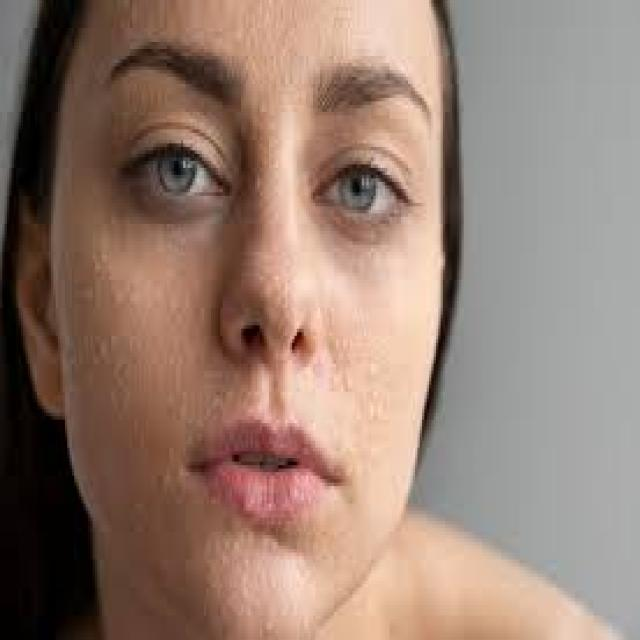flakiness: (68, 264, 170, 416), (163, 463, 250, 606)
